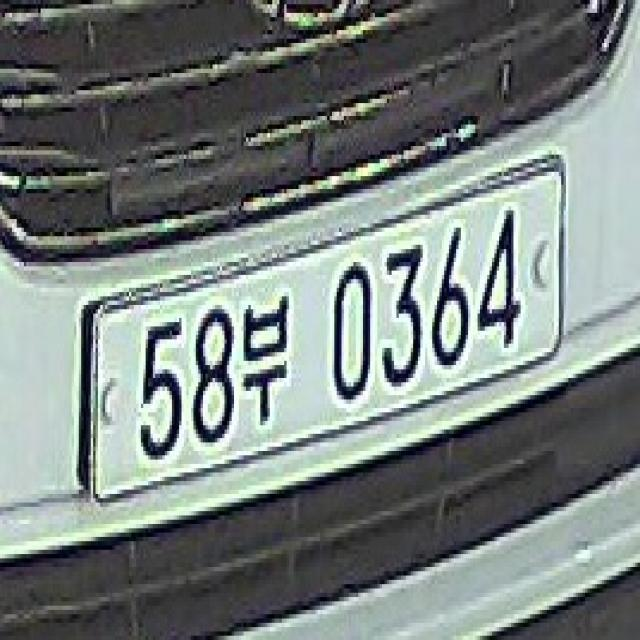0: (324, 256, 372, 400)
3: (382, 241, 424, 392)
4: (476, 204, 528, 356)
5: (132, 318, 184, 460)
6: (430, 218, 472, 376)
8: (189, 304, 235, 446)
bu: (241, 294, 293, 436)
license_plate: (75, 139, 572, 526)
